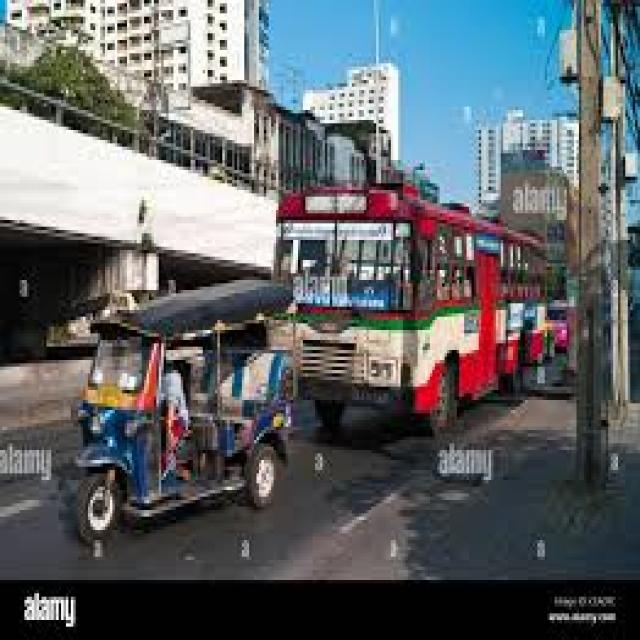bus: (311, 160, 566, 422)
tuktuk: (61, 272, 300, 536)
